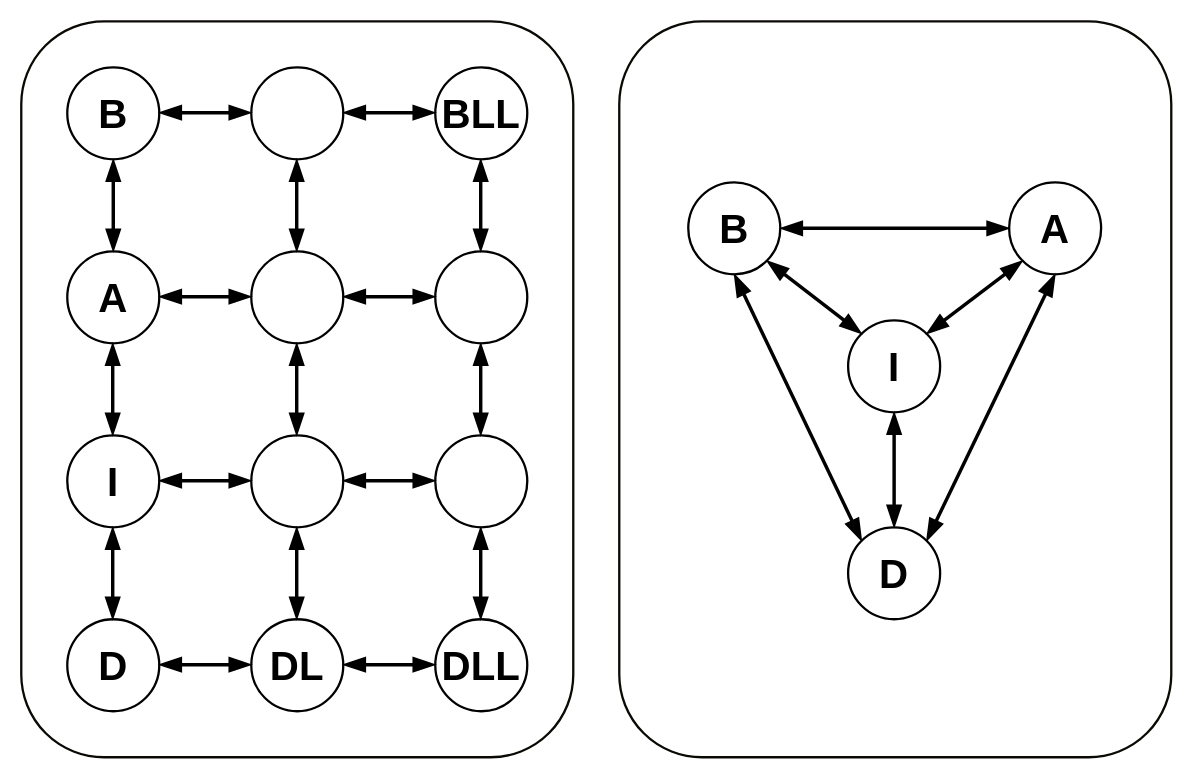
This 1191x777 diagram has some shape labels left out. The centre of each missing label's shape, as x and y in pixels:
"AL" goes at pixel 297 297.
"ALL" goes at pixel 481 297.
"BL" goes at pixel 297 113.
"IL" goes at pixel 297 481.
"ILL" goes at pixel 481 481.
